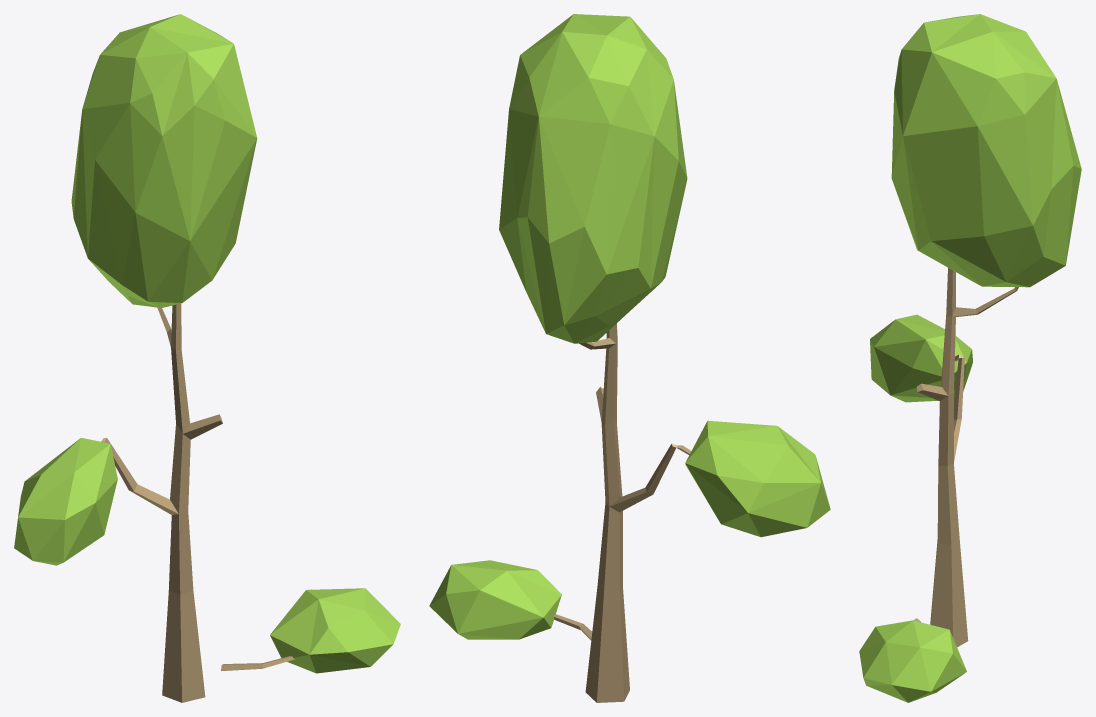
Rendered from Random_Tree_crk_m_BT_05.fbx.
3 views of the same model, side by side, from view 1: azimuth 30°, elevation 25°; view 2: azimuth 150°, elevation 25°; view 3: azimuth 270°, elevation 25° (orthographic). The views are drawn at different scales.
Visible parts, largest first — view 1: Random_Tree_crk_m_BT_05; view 2: Random_Tree_crk_m_BT_05; view 3: Random_Tree_crk_m_BT_05.
Boxes of the visible parts, box(x1,y1,x2,y2) form: Random_Tree_crk_m_BT_05: box(14, 14, 400, 702); Random_Tree_crk_m_BT_05: box(429, 14, 830, 702); Random_Tree_crk_m_BT_05: box(859, 14, 1081, 702).
Bounding box in the file's own units: 571 × 959 × 312.
